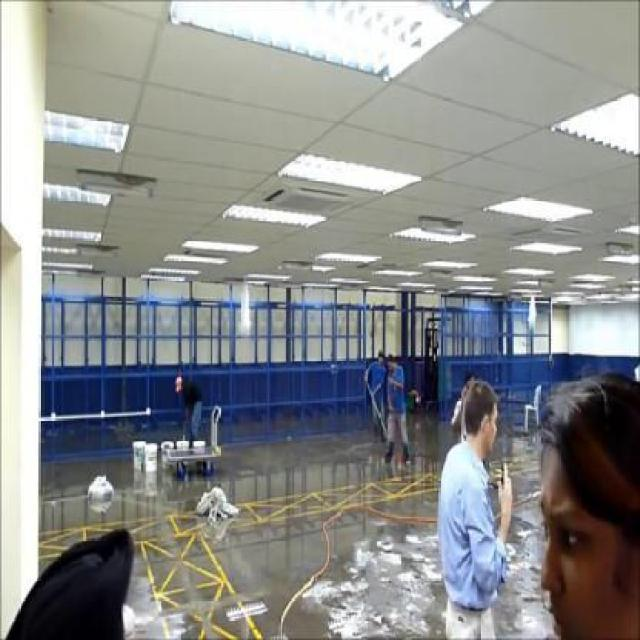fire: (236, 280, 253, 340), (523, 299, 545, 332)
